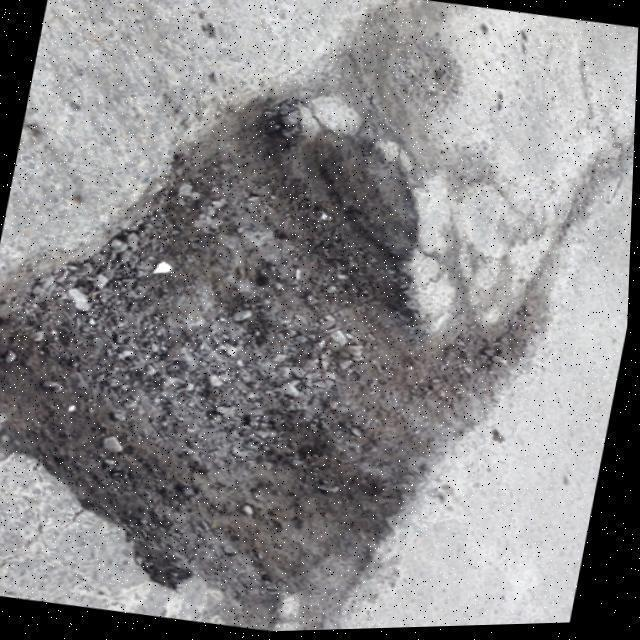Pothole: (0, 104, 541, 618)
